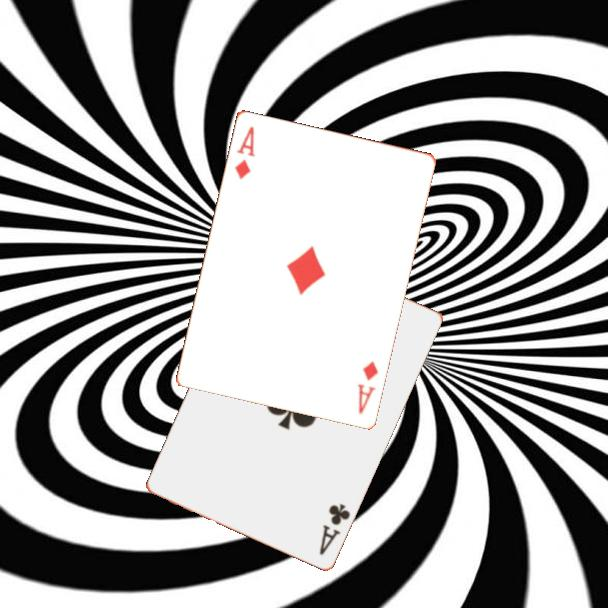c01: (316, 499, 353, 558)
d01: (354, 357, 381, 417), (231, 122, 257, 182)
